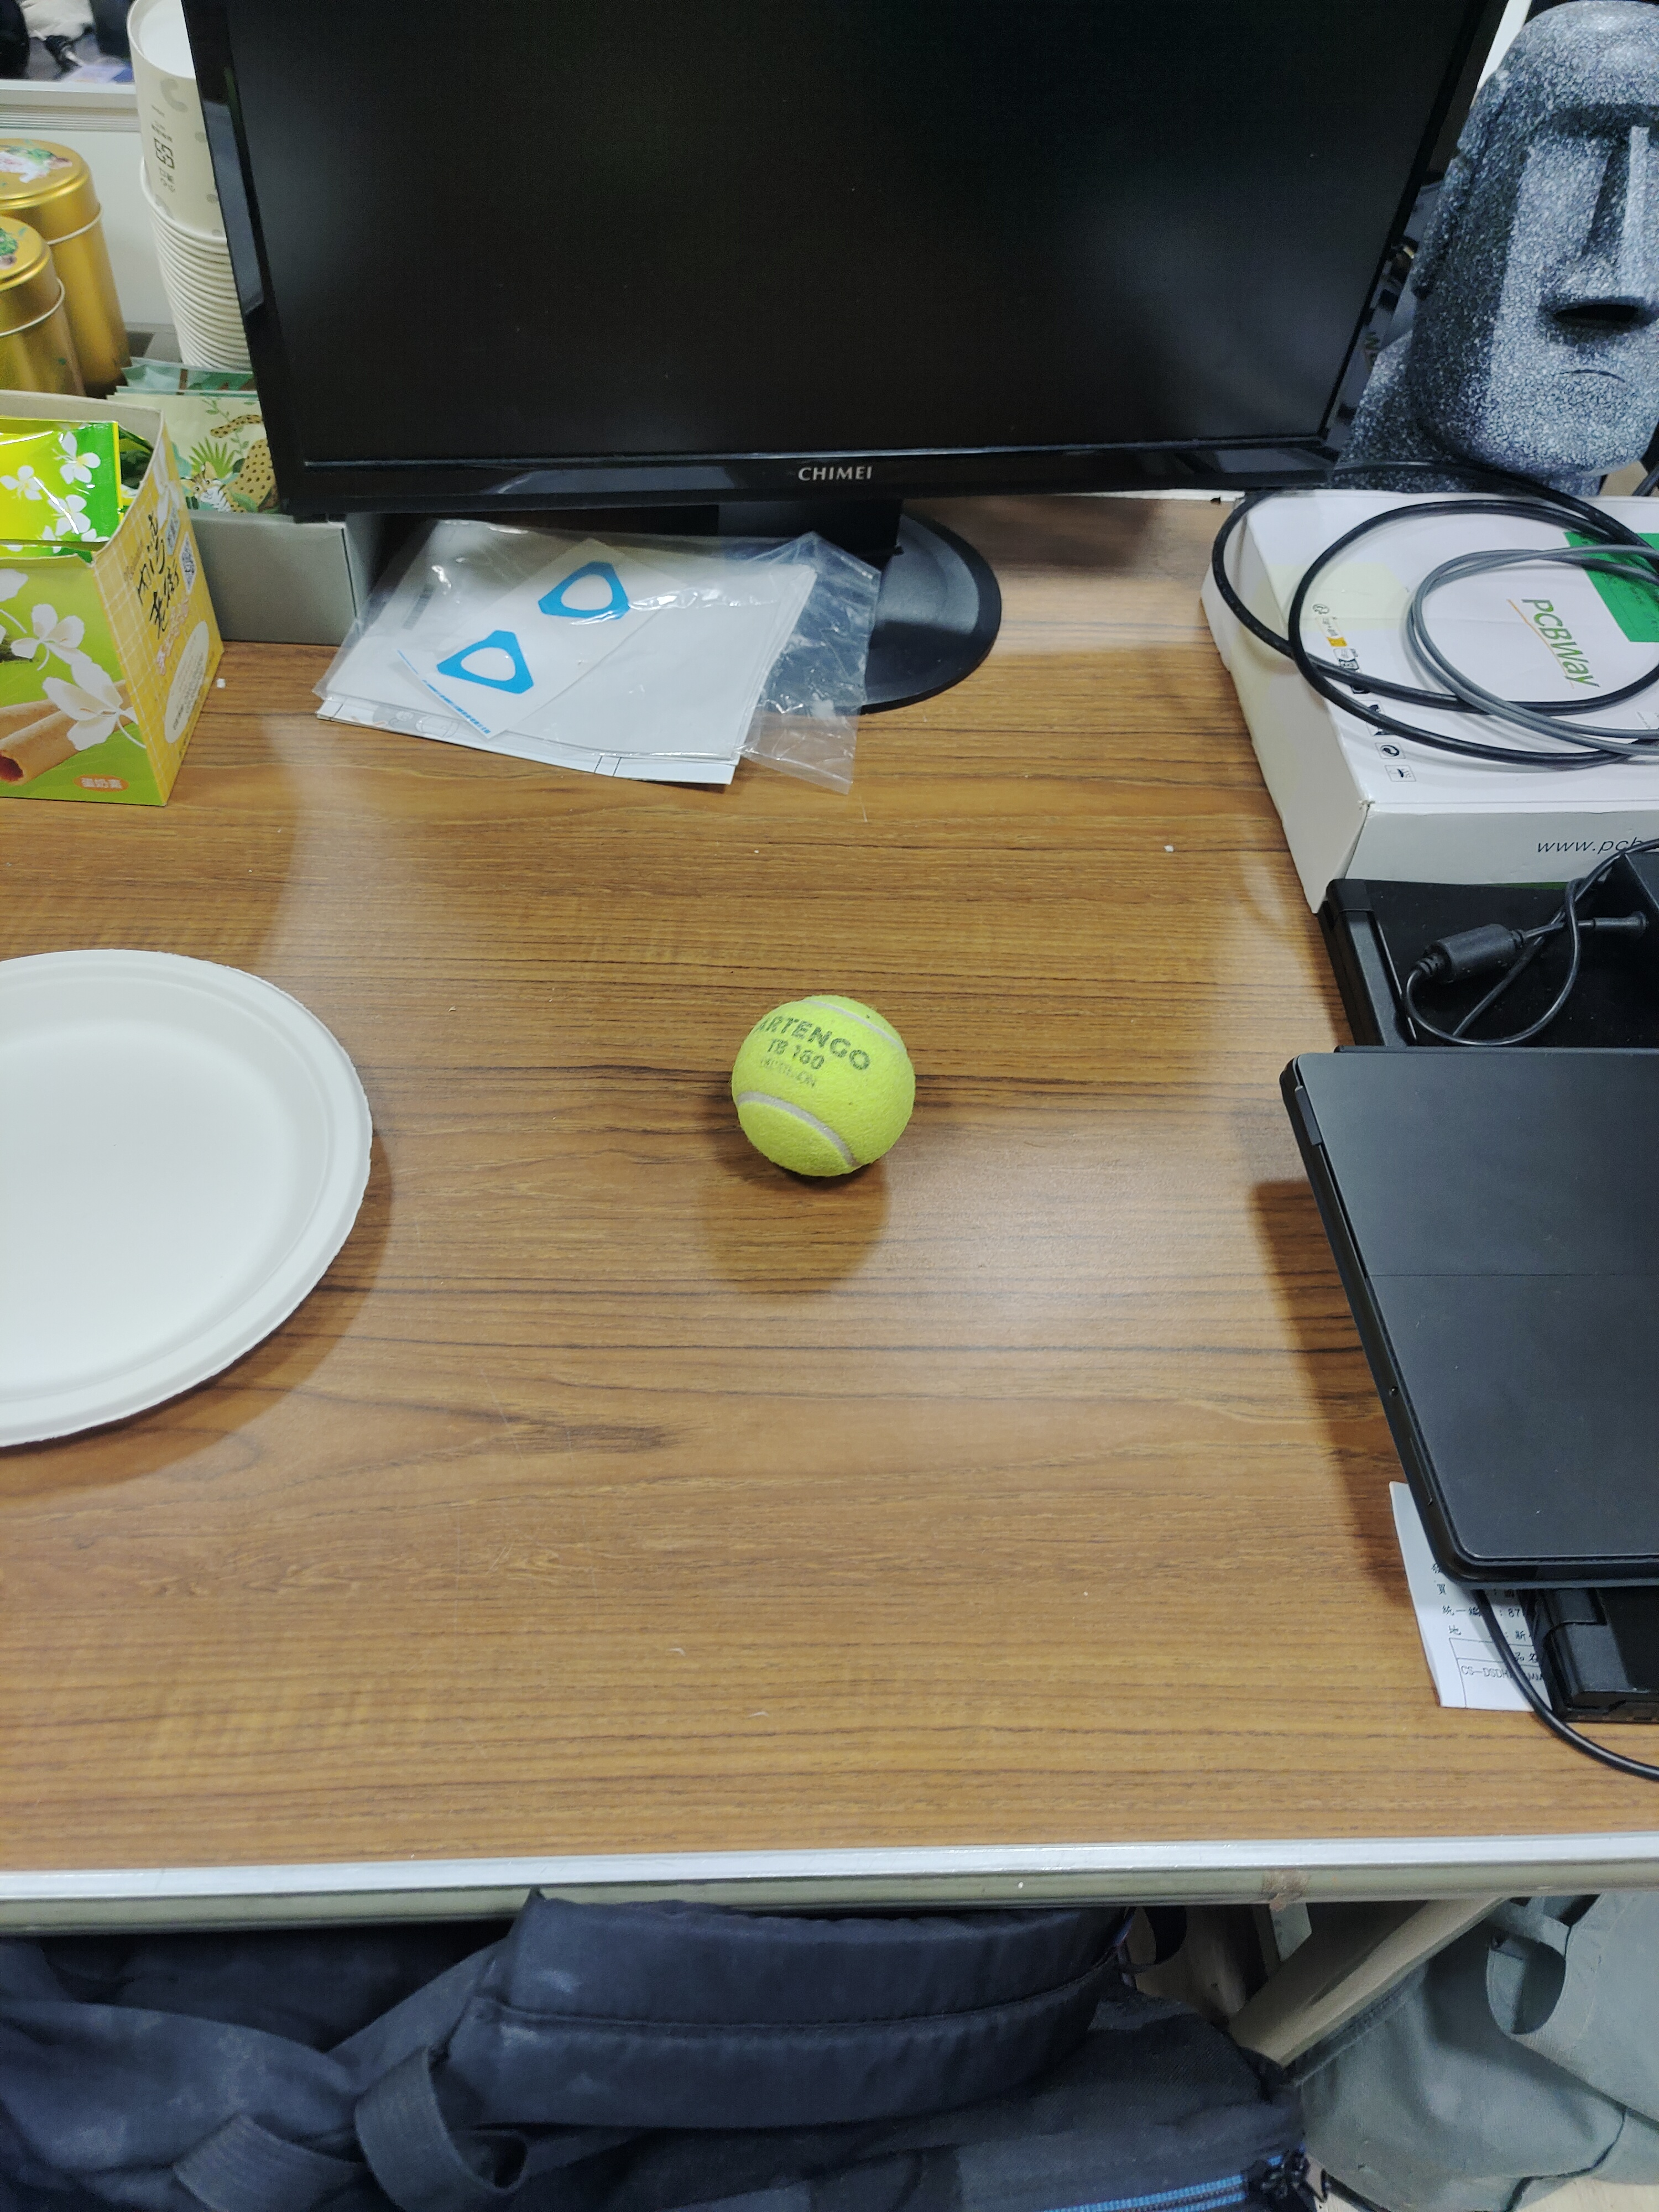tennis: (720, 986, 927, 1191)
